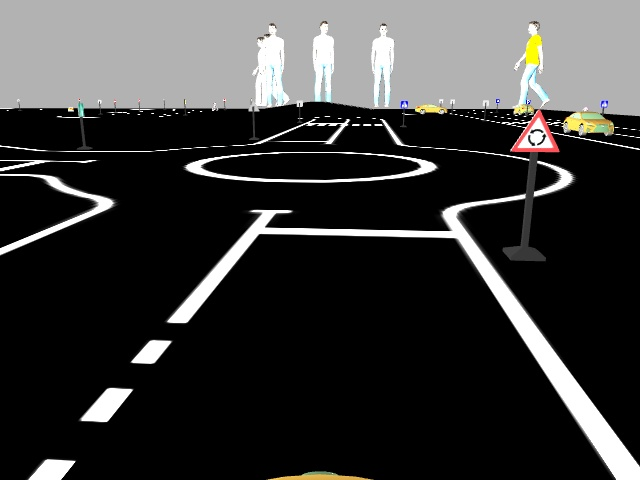Roundabout: (509, 109, 562, 154)
